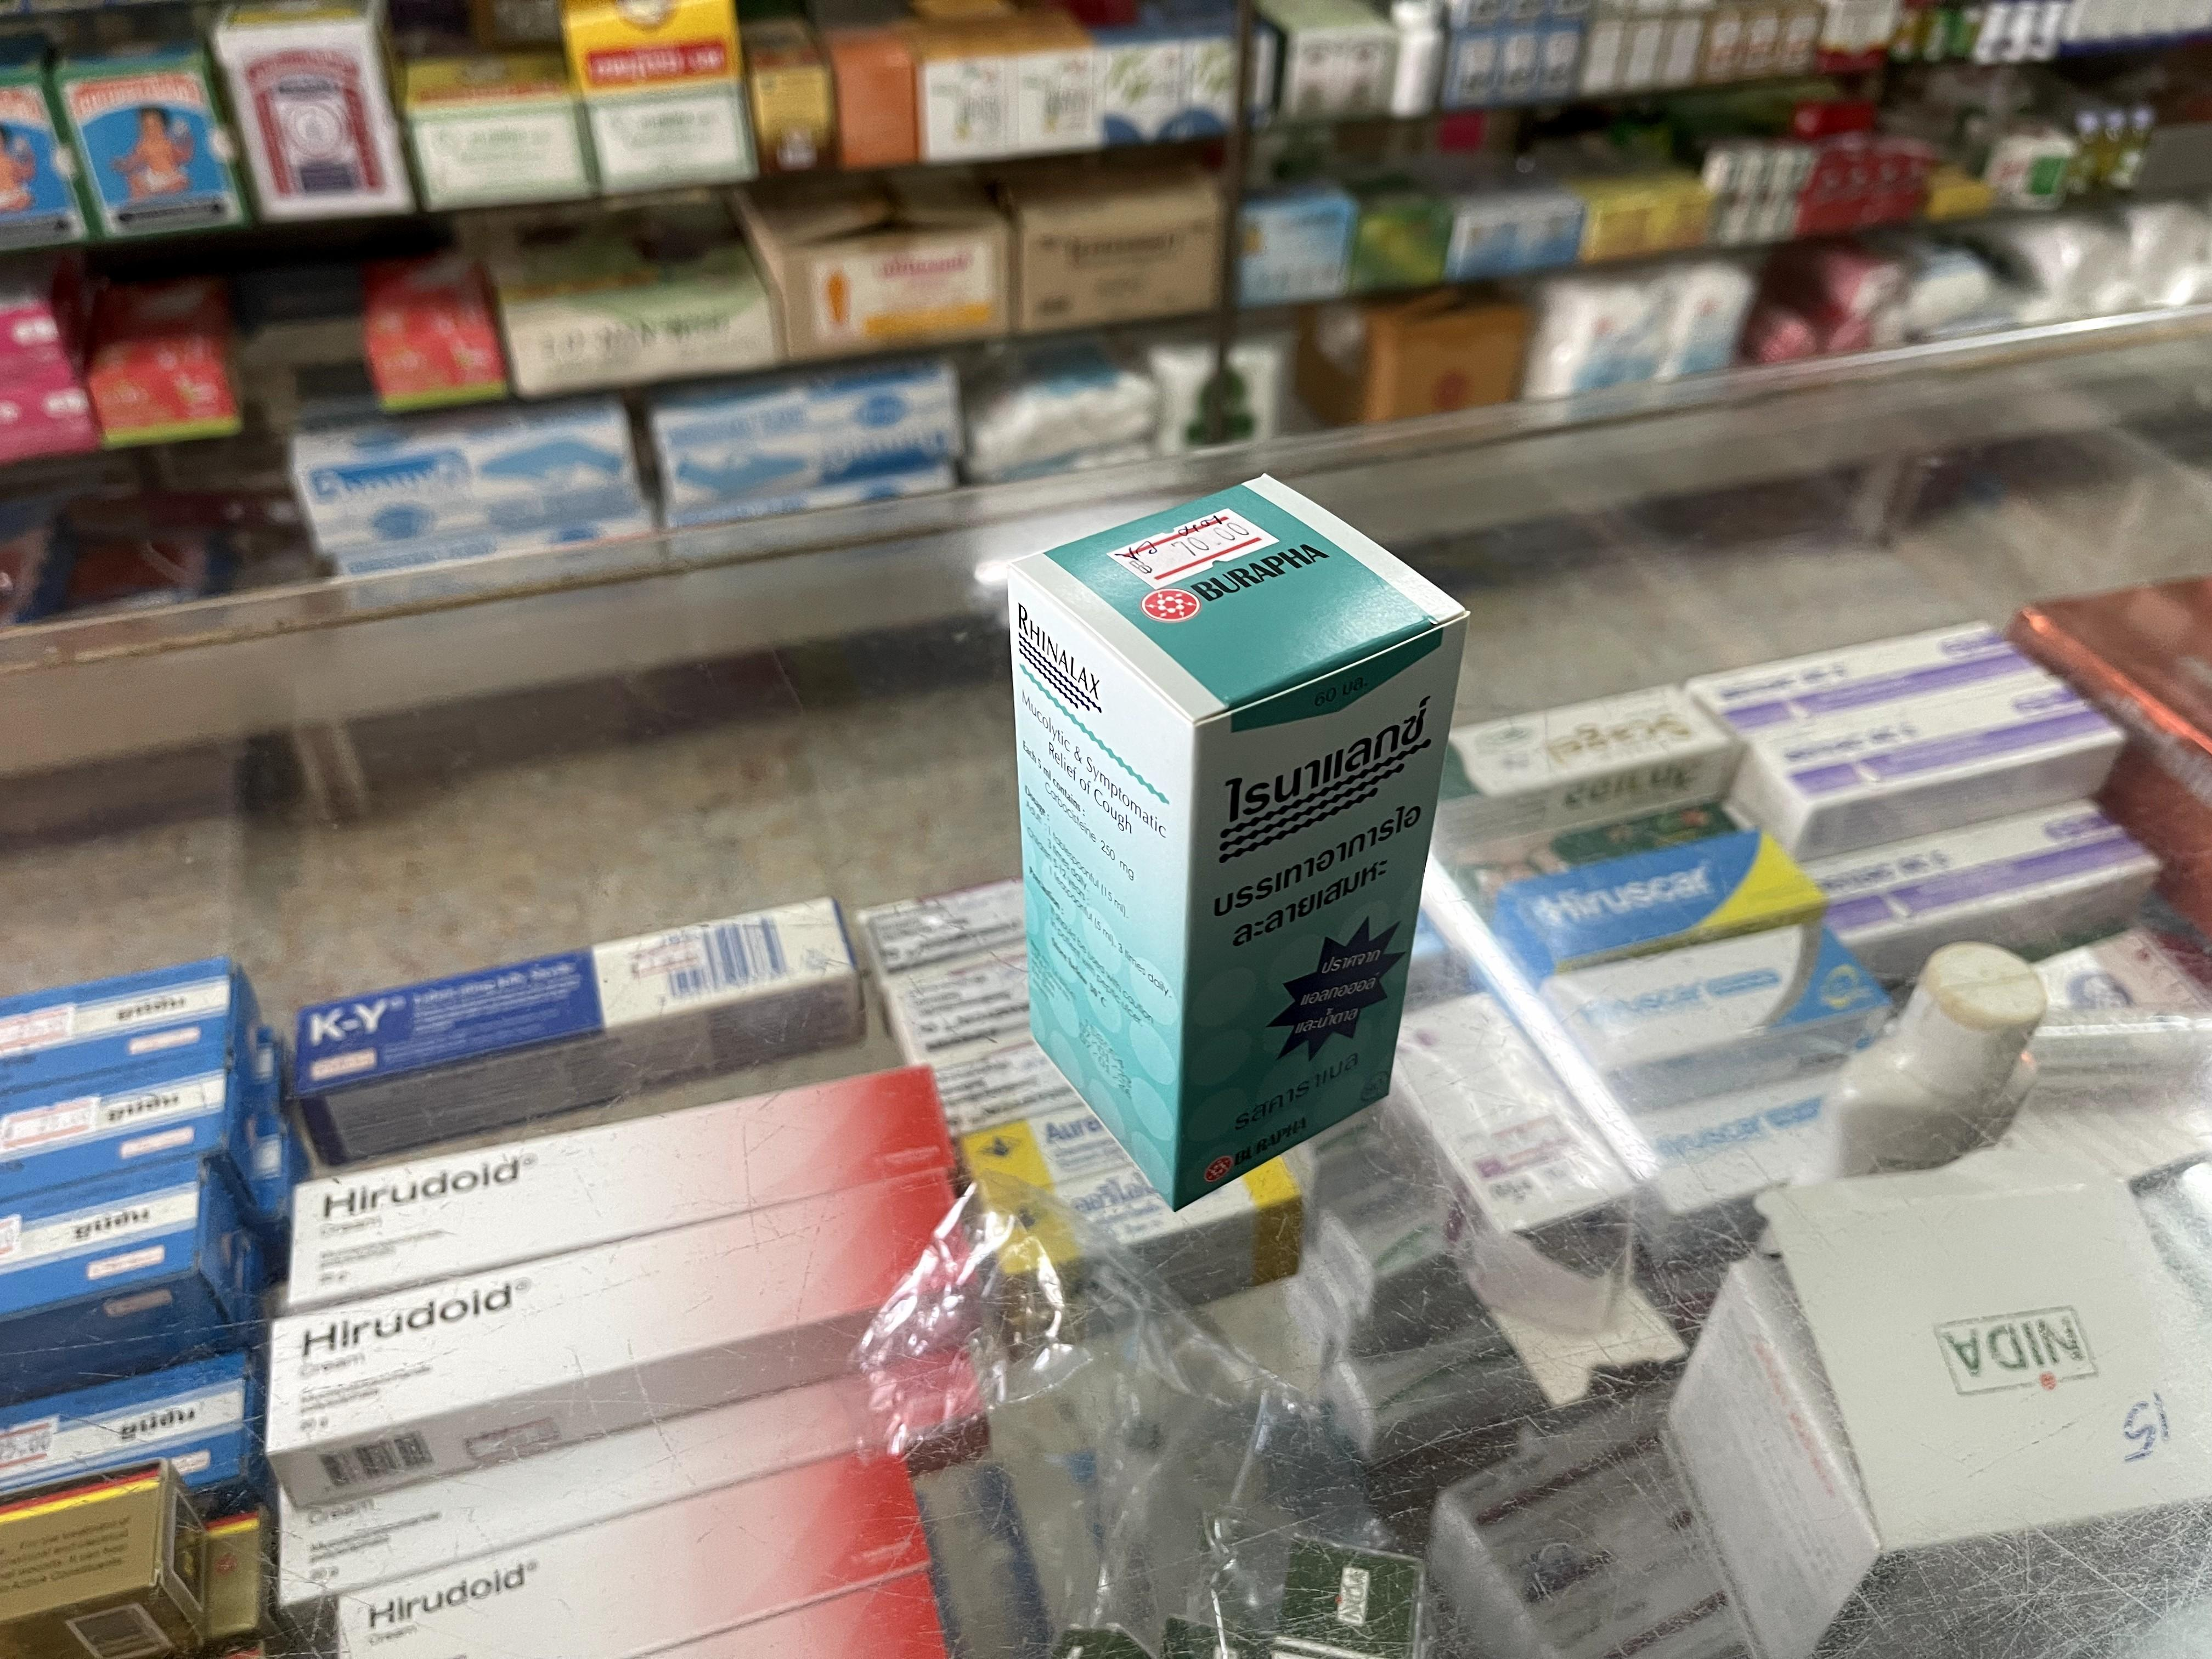Rhinalax: (1010, 467, 1470, 1209)
